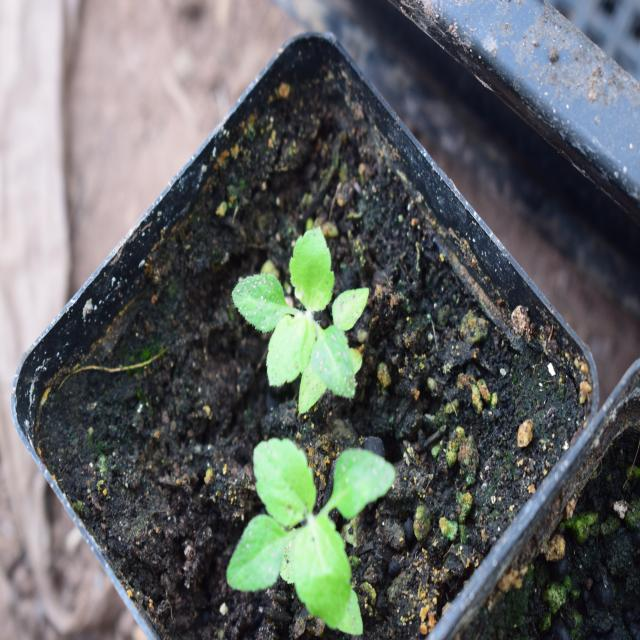billygoat_weed: (225, 430, 393, 630), (225, 222, 368, 396)
